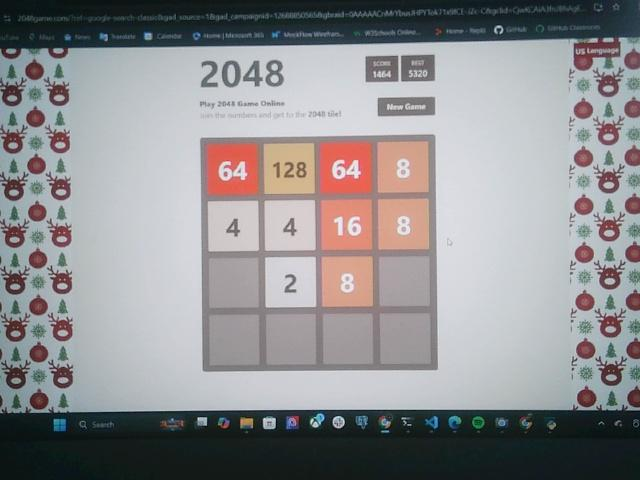board: (201, 137, 437, 369)
tile: (206, 143, 259, 196), (378, 142, 430, 194), (378, 199, 429, 250), (323, 199, 373, 251), (266, 257, 316, 308), (208, 202, 260, 251), (322, 257, 374, 306), (265, 144, 316, 193), (266, 202, 316, 251), (321, 145, 371, 193)
